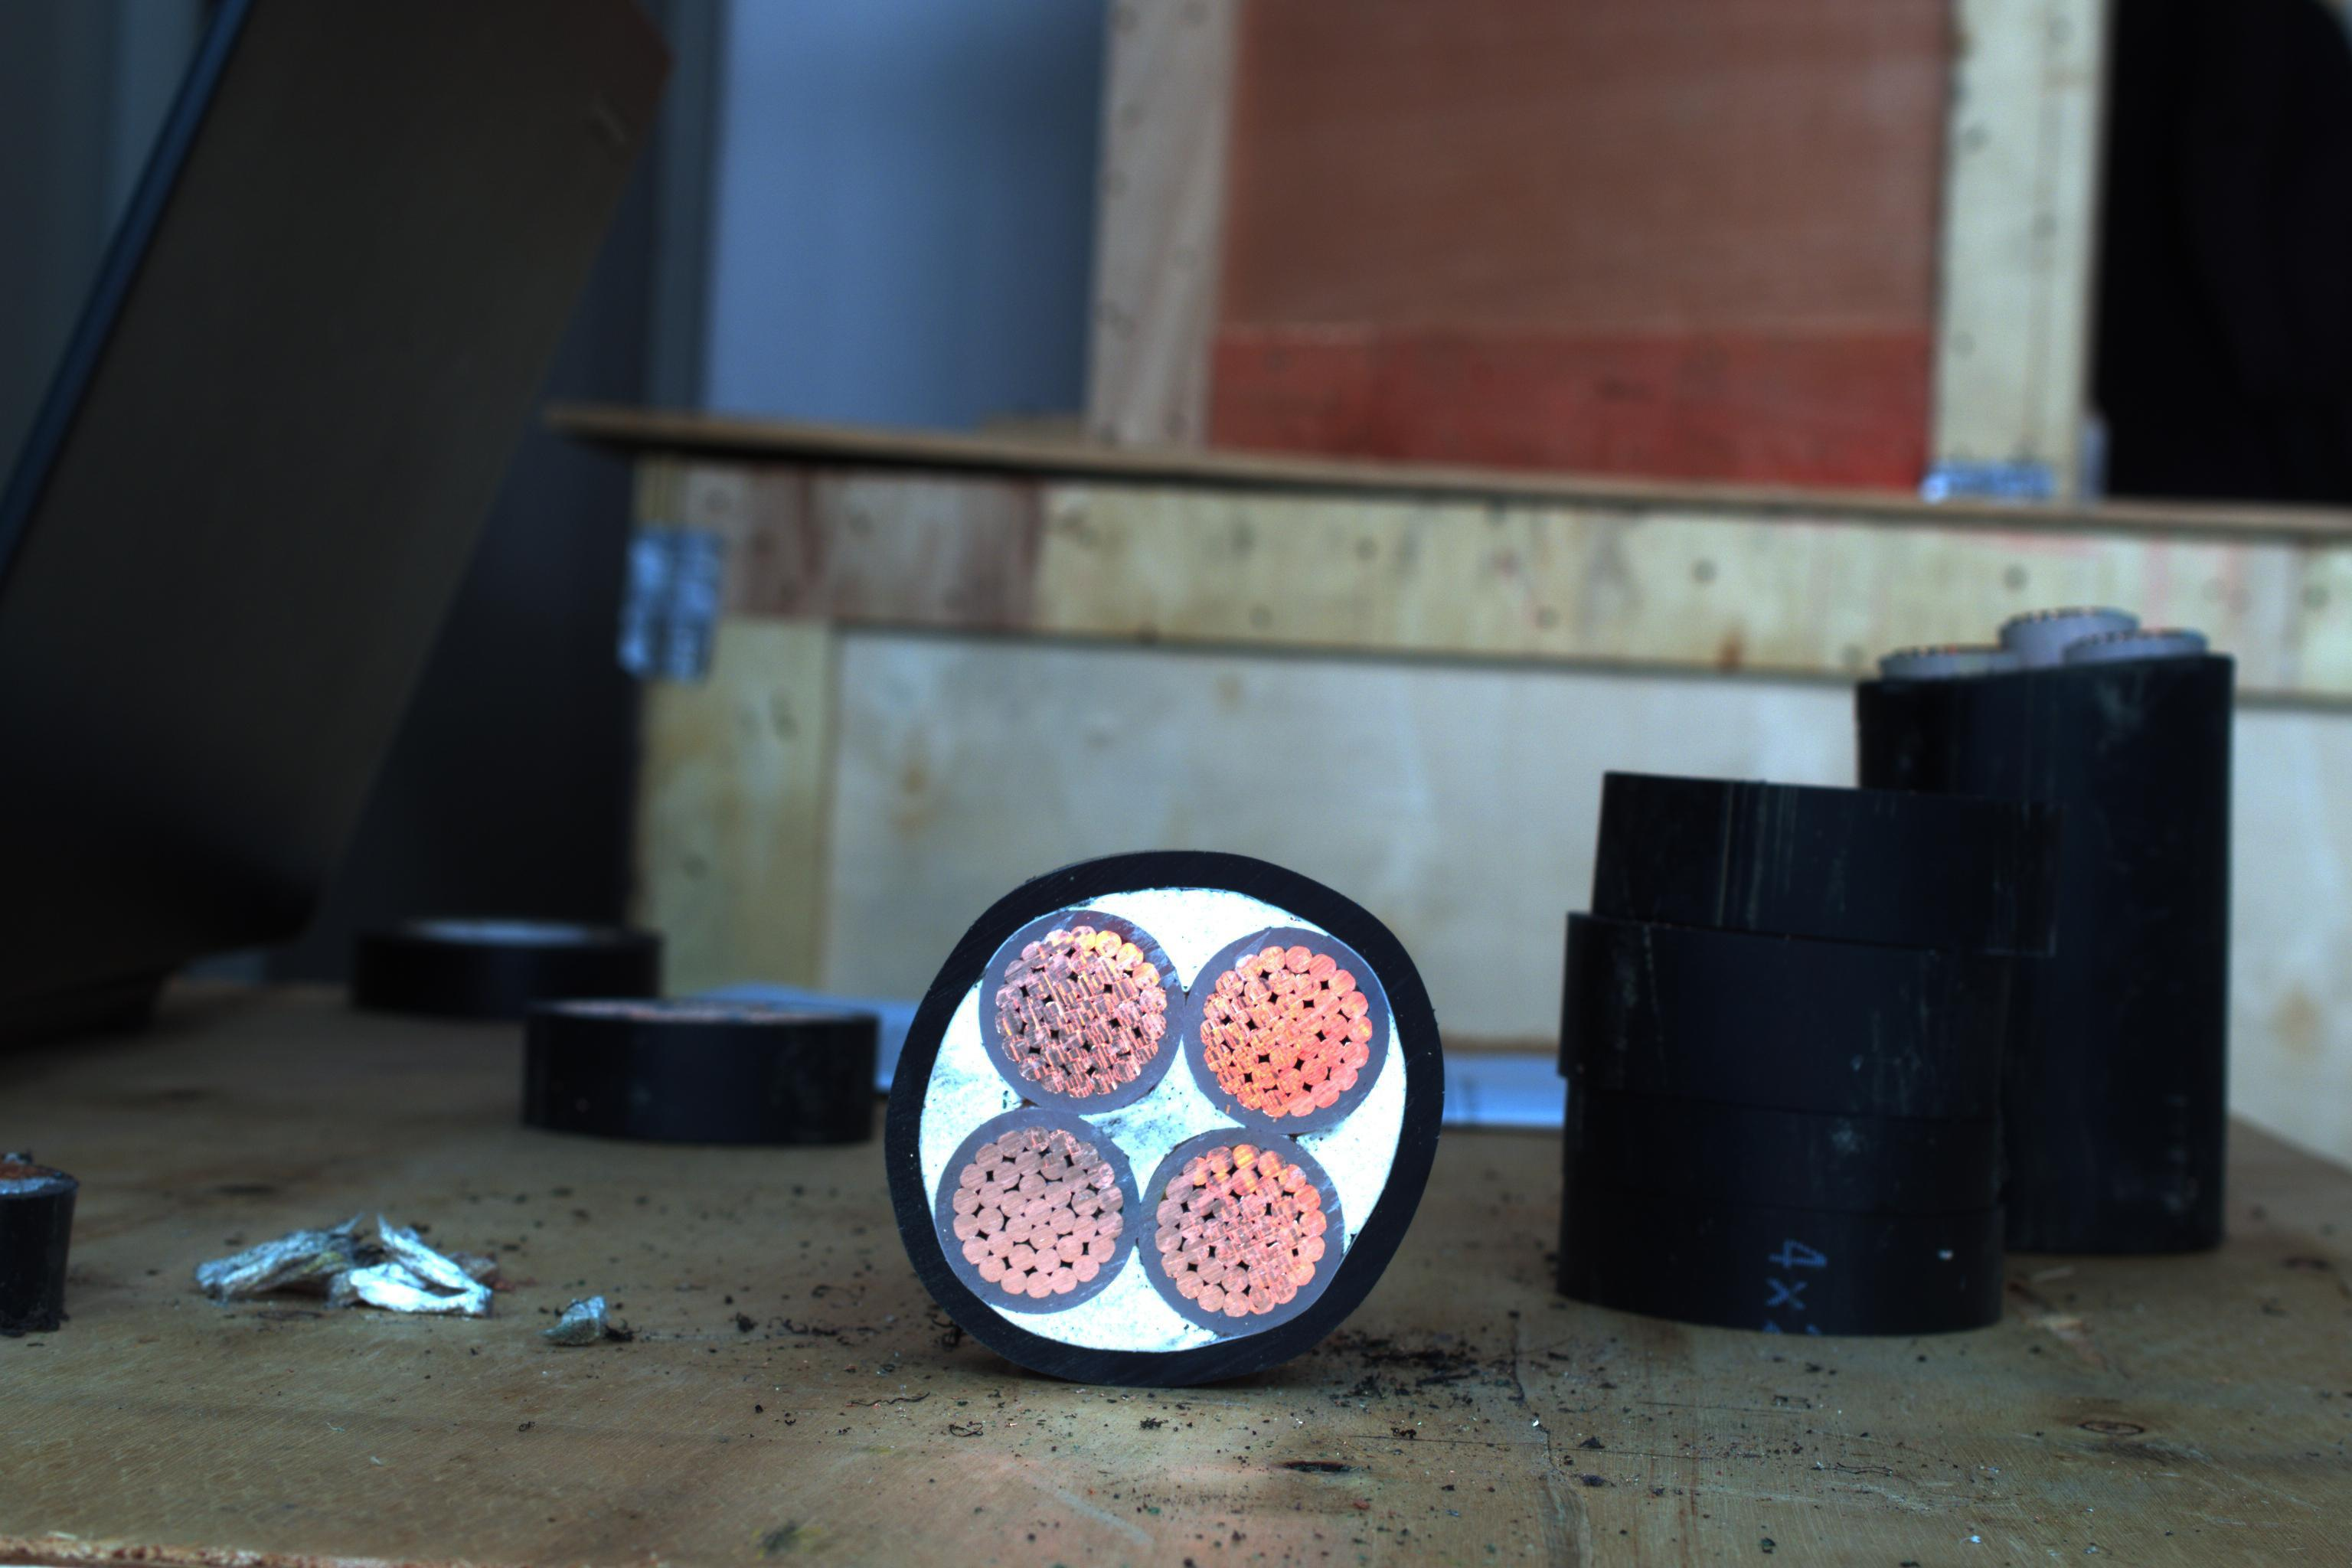YJV_0.6_1kV_4x240: (885, 870, 1440, 1330)
